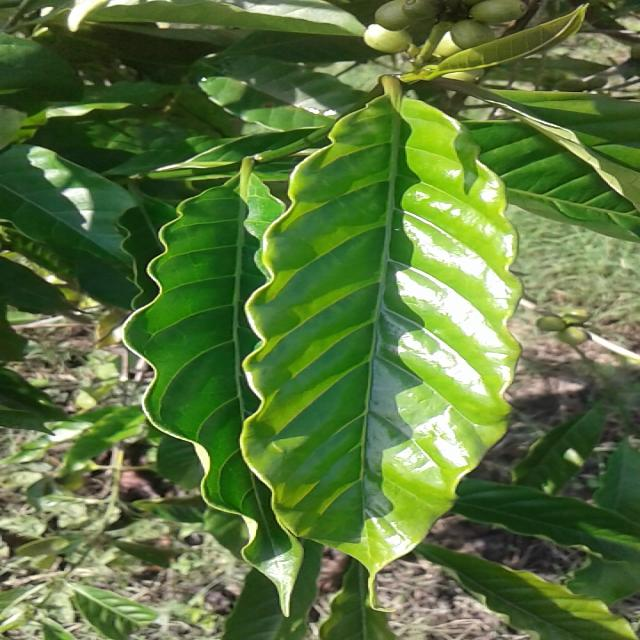Sanas: (239, 96, 522, 580)
